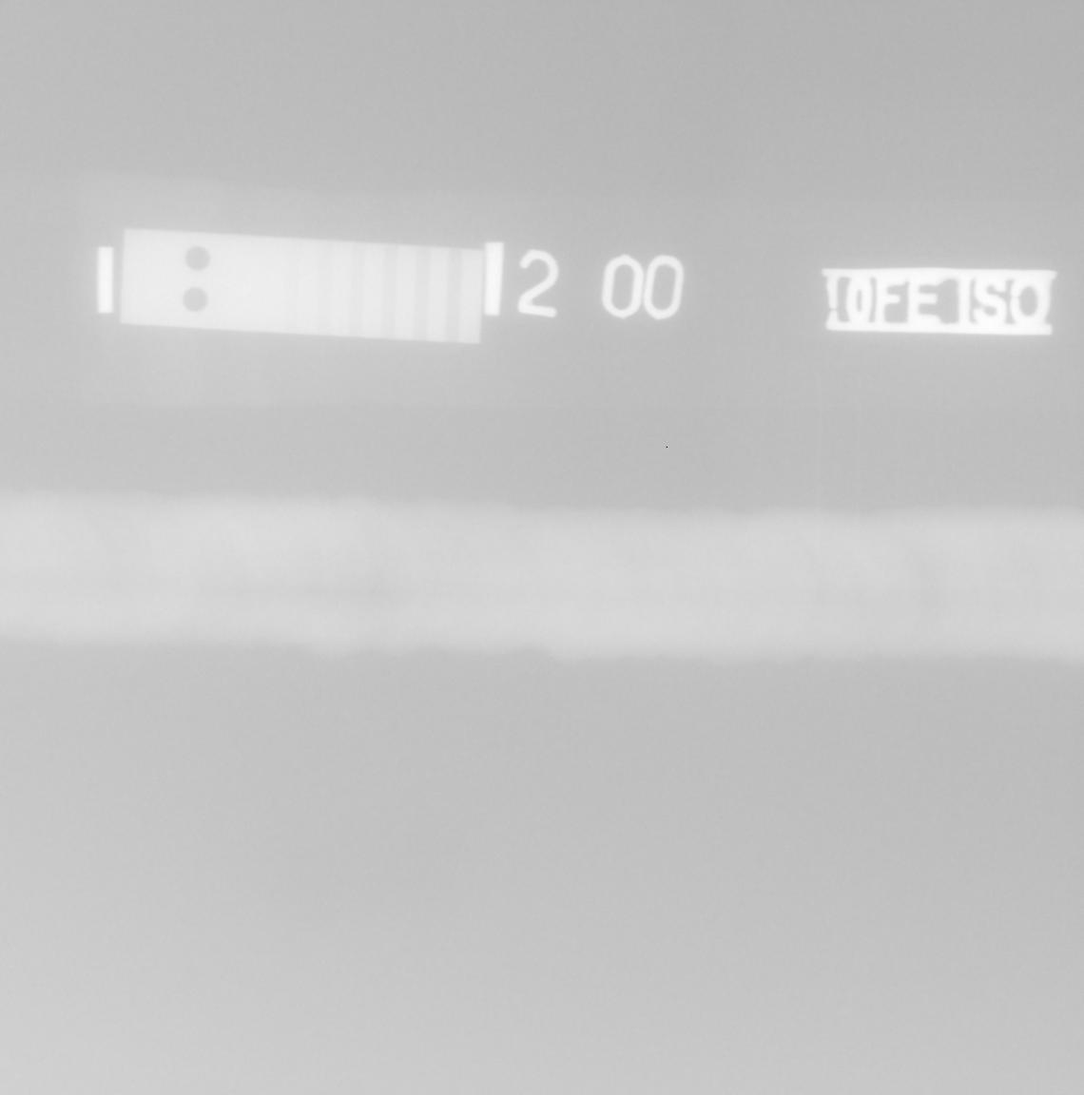Reference Standard 2: (120, 228, 484, 344)
